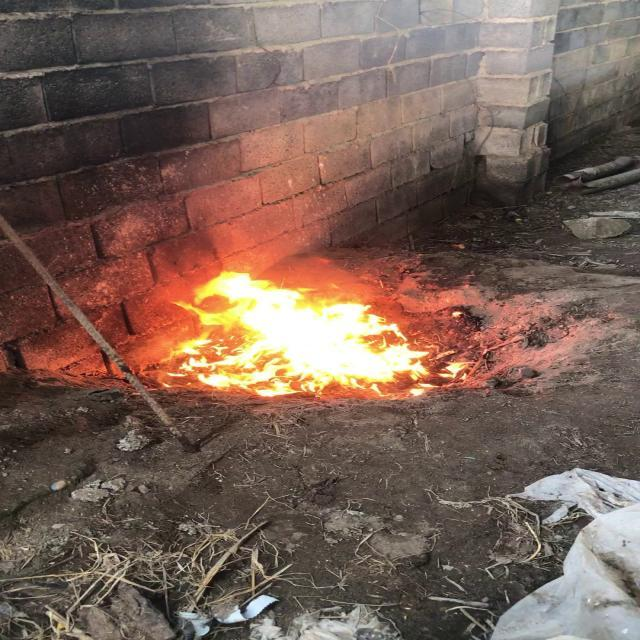Fire: (168, 268, 427, 392)
